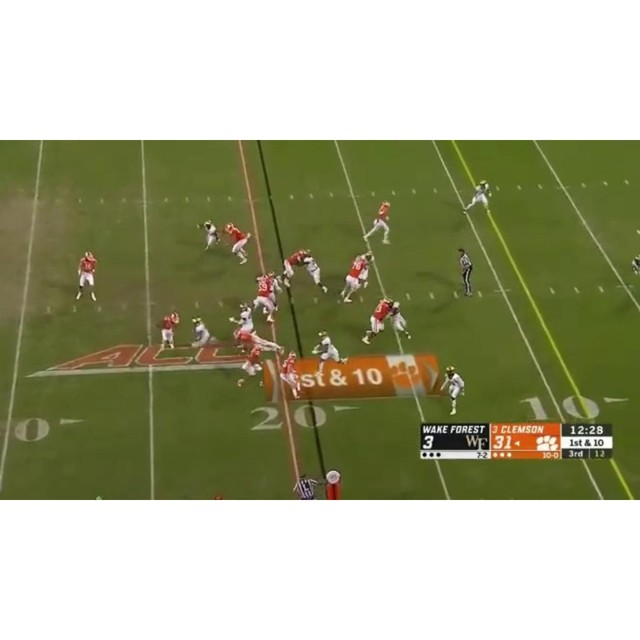american-football-player: (311, 330, 347, 376), (361, 298, 393, 345), (340, 255, 368, 304), (229, 302, 256, 350), (363, 200, 392, 244), (252, 274, 277, 325), (441, 365, 465, 416), (189, 315, 215, 362), (75, 251, 98, 303), (279, 350, 303, 399), (237, 345, 264, 388), (225, 222, 252, 265), (280, 250, 307, 289), (303, 253, 328, 293), (463, 180, 491, 215), (156, 311, 180, 351), (389, 301, 412, 340), (199, 220, 221, 251), (358, 252, 374, 290)
referee: (458, 247, 475, 297)
